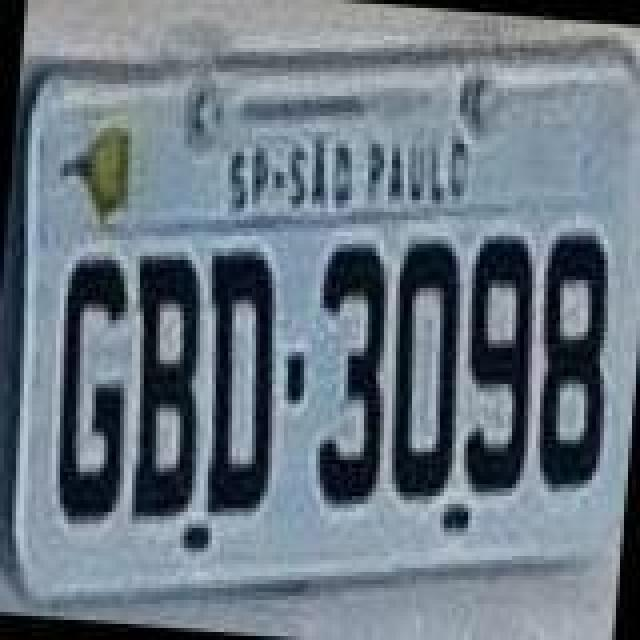3: (300, 238, 404, 514)
8: (526, 224, 626, 496)
9: (452, 228, 548, 500)
B: (118, 248, 218, 528)
D: (188, 246, 292, 522)
G: (46, 254, 146, 530)
O: (374, 230, 474, 506)
